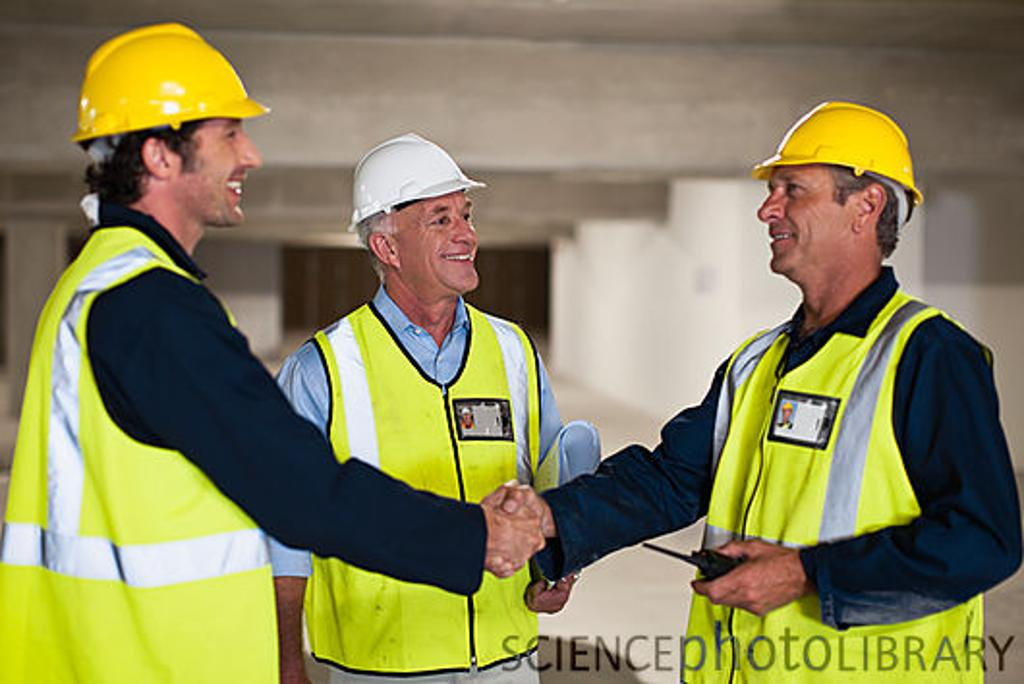face: (190, 60, 262, 228), (760, 132, 834, 272), (412, 170, 484, 294)
